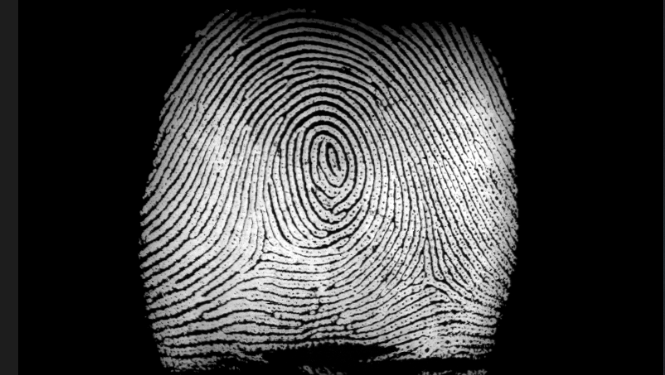nucelo: (310, 131, 351, 188)
verticilo: (245, 229, 292, 268), (408, 254, 449, 298)
